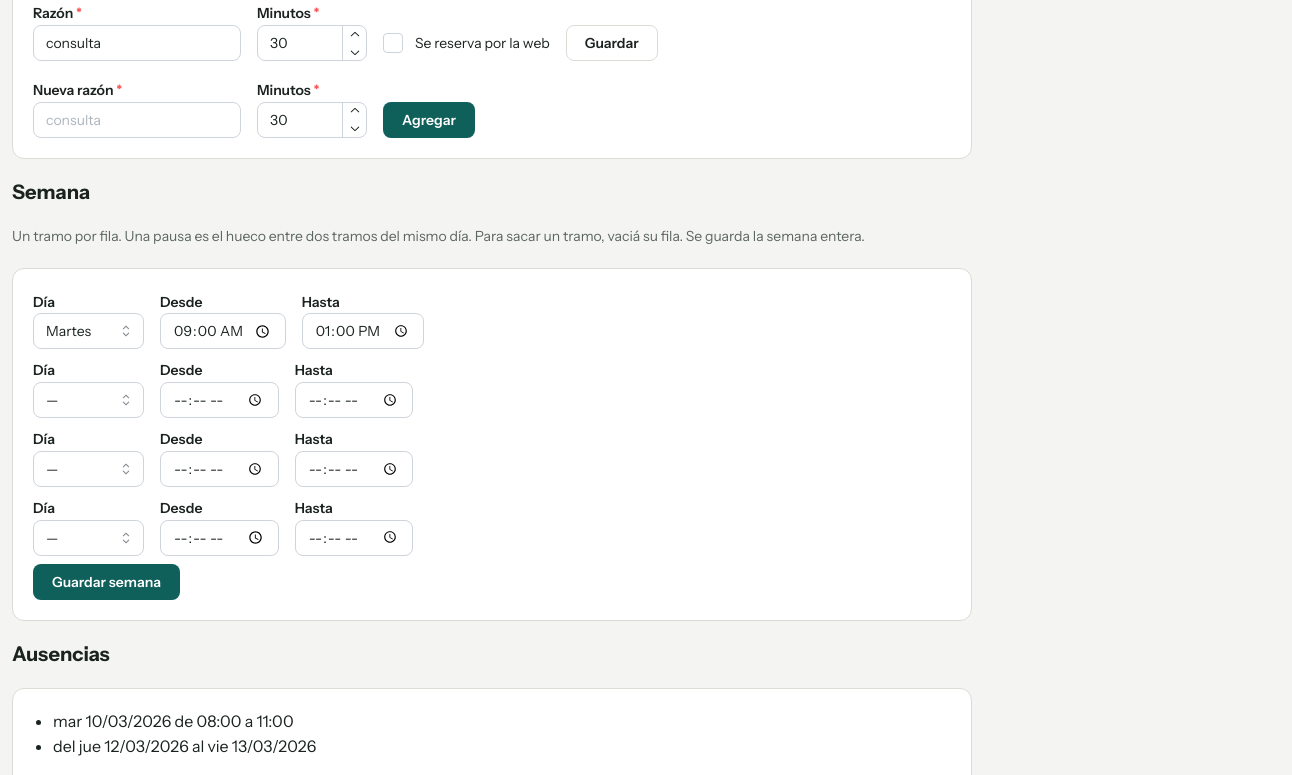
Test case: a practitioner's set-up › refuses a row half filled before sending the week, and sends it whole once complete
The image size is (1292, 775).
(page scrolled)
Select "Viernes" in the 2nd dropdown labelled "Día" at (88, 400), box [33,382,144,418]
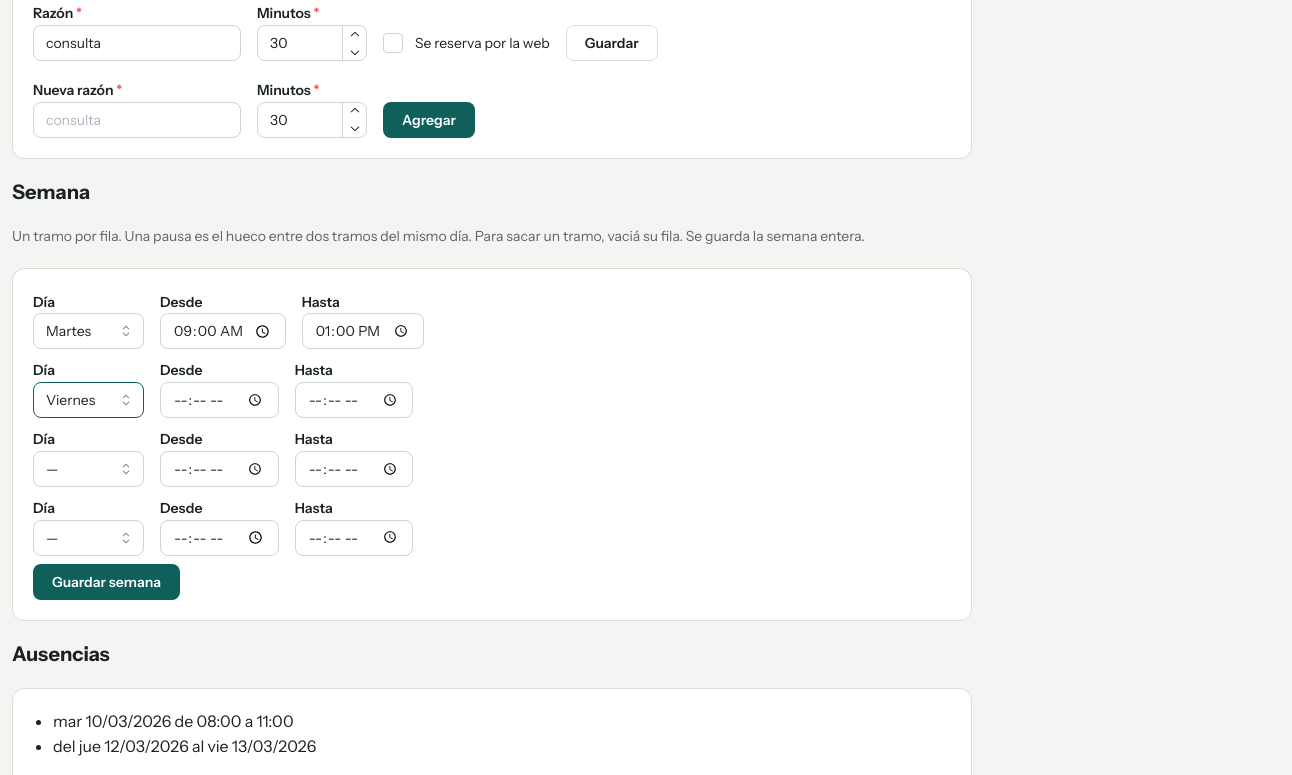
Click the button "Guardar semana" at (106, 582), box [33,564,180,600]
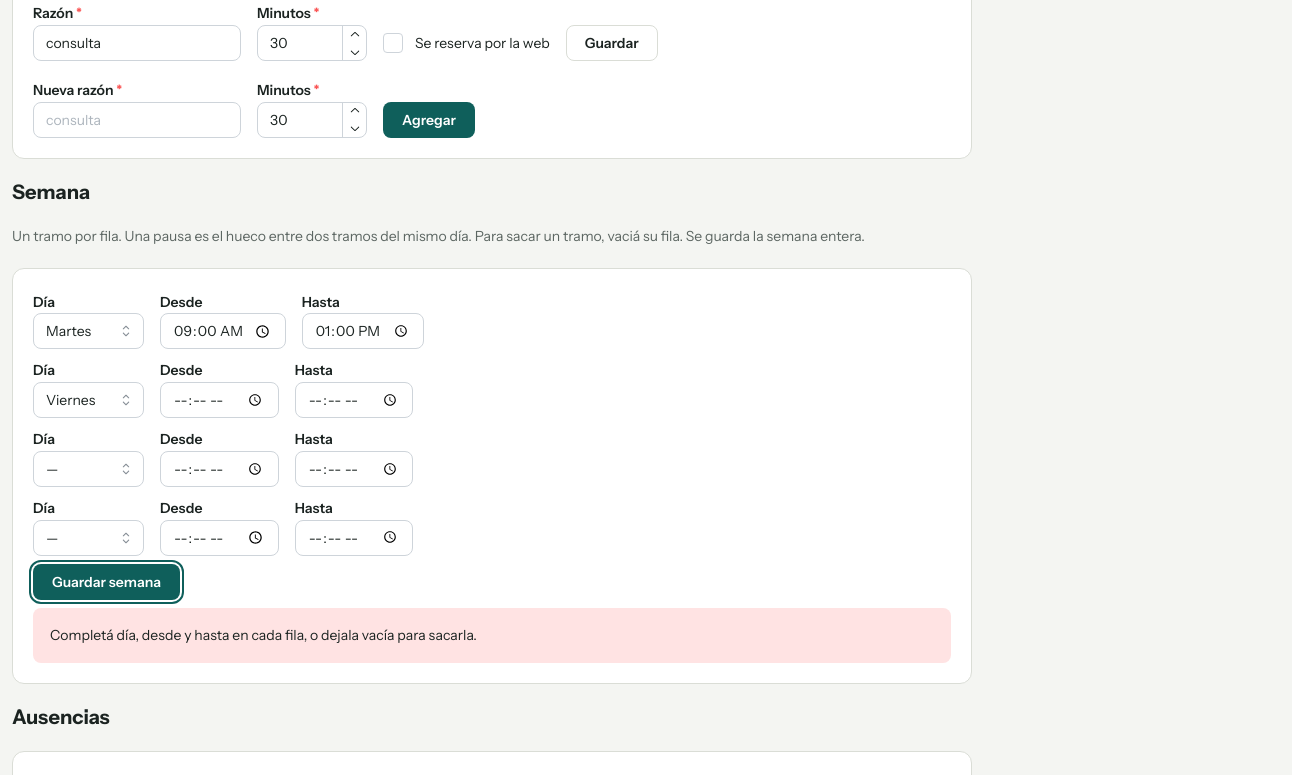
Check: the message reads "Completá día, desde y hasta en cada fila, o dejala vacía para sacarla.", box [50,626,477,644]
Type "14:00" into the 2nd time field labelled "Desde" at (219, 400), box [160,382,279,418]
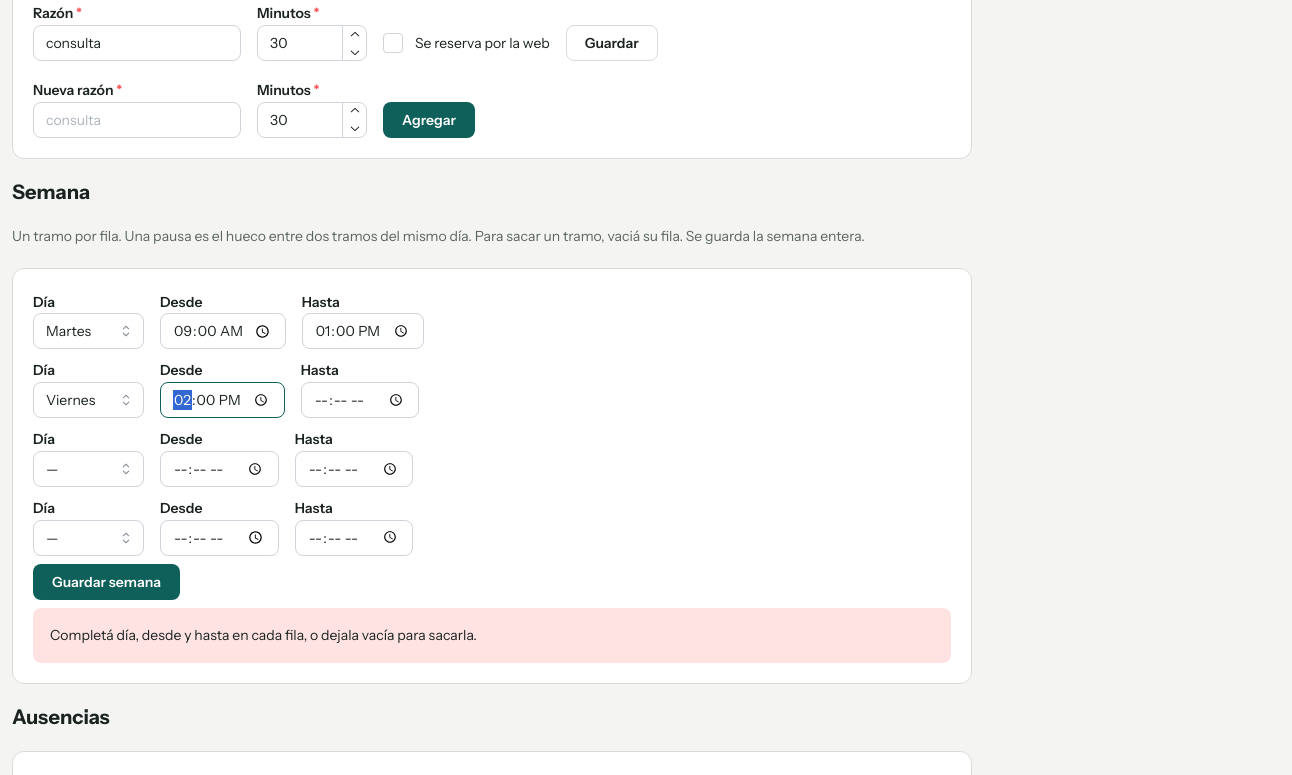
Type "18:00" into the 2nd time field labelled "Hasta" at (360, 400), box [301,382,419,418]
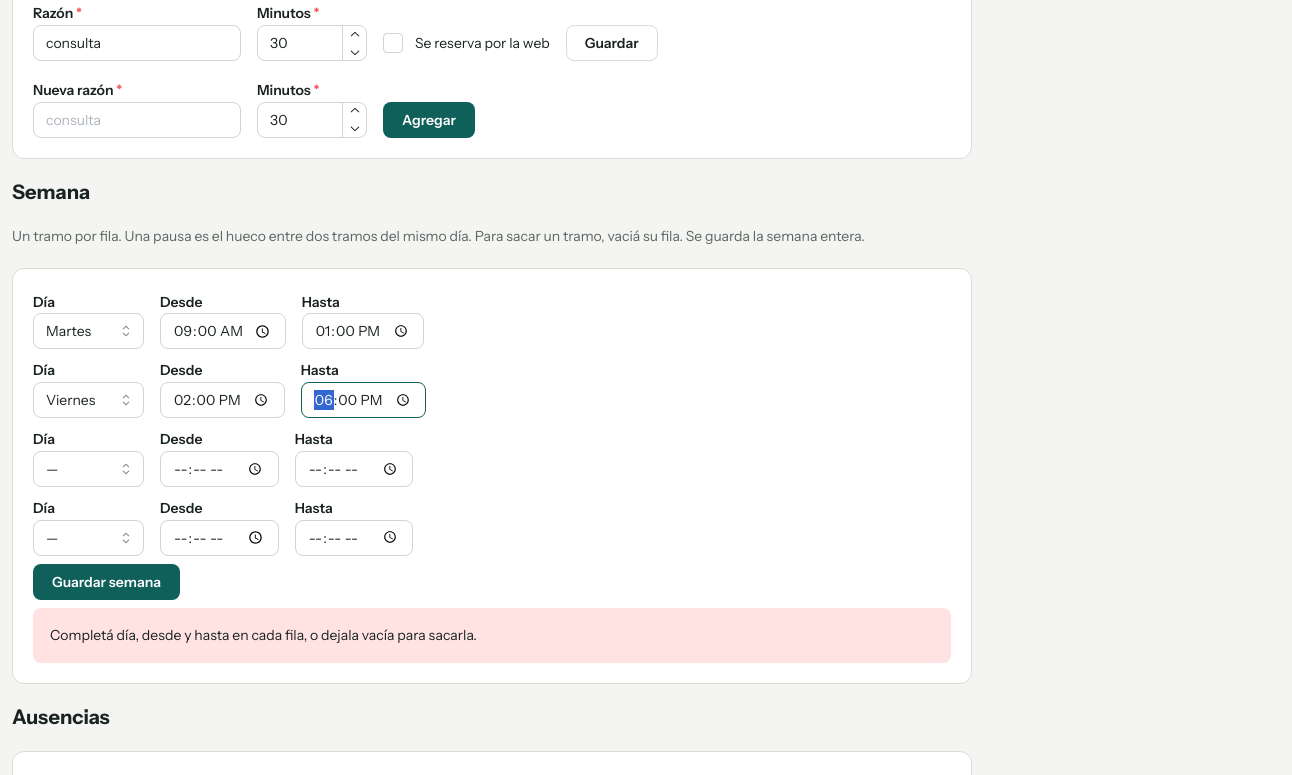
Click the button "Guardar semana" at (106, 582), box [33,564,180,600]
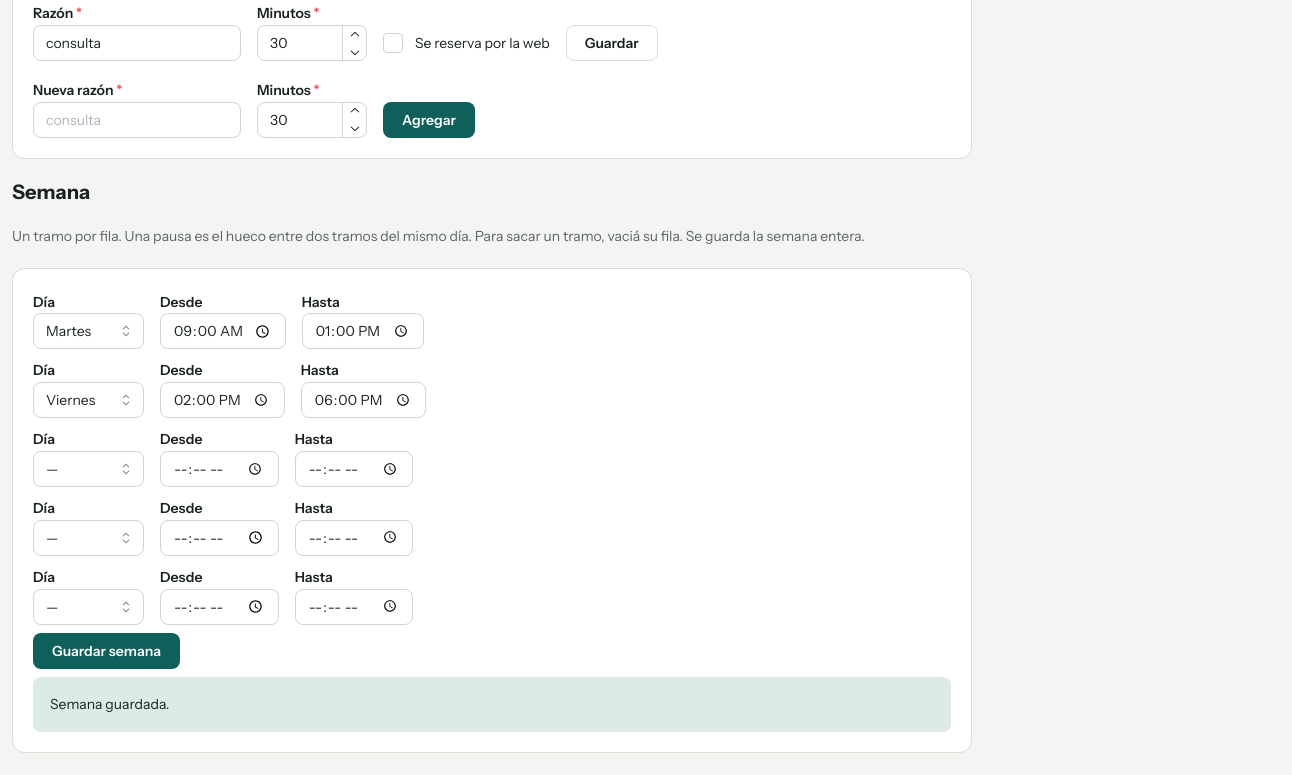
Check: the message reads "Semana guardada.", box [50,694,169,712]
Check: the number of elements named "Tramo" is 5, box [33,292,424,349]; [33,361,426,418]; [33,430,413,487]; [33,499,413,556]; [33,568,413,624]
